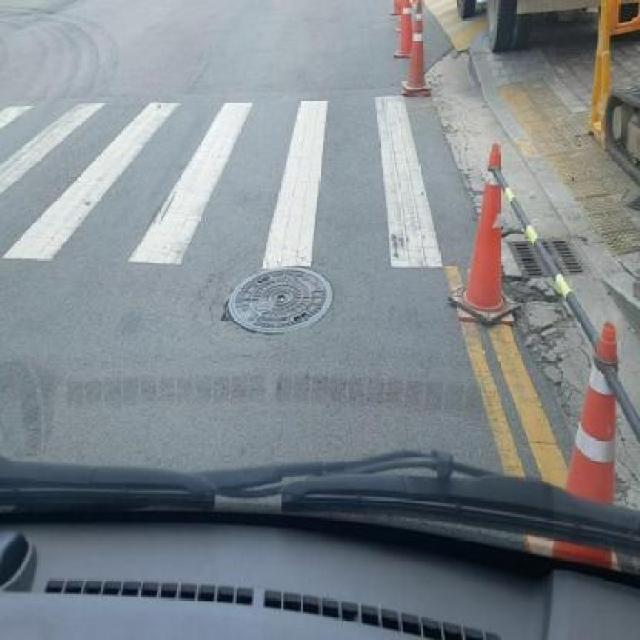Manhole: (219, 264, 336, 338), (506, 234, 594, 284)
